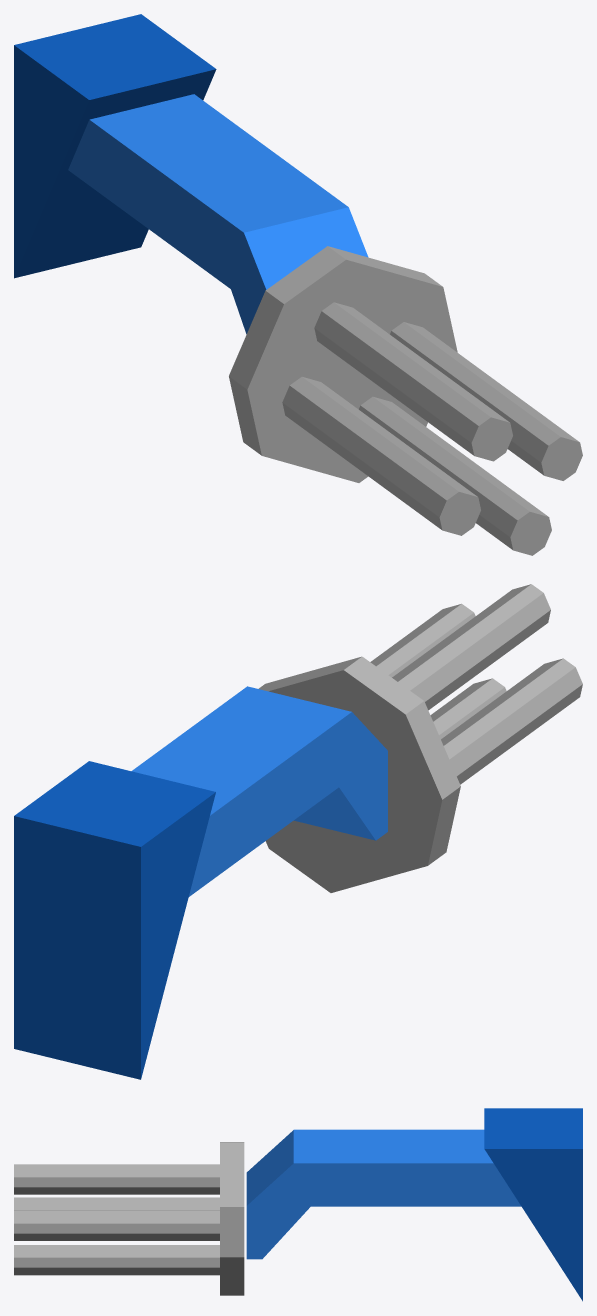
The model's file is gatling.glb.
The picture shows the model from 3 angles, top to bottom: view 1: azimuth 30°, elevation 25°; view 2: azimuth 150°, elevation 25°; view 3: azimuth 270°, elevation 25°; orthographic projection. The views are drawn at different scales.
Visible parts, largest first — view 1: Cube, spinner; view 2: Cube, spinner; view 3: Cube, spinner.
Boxes of the visible parts, bbox=[...] form: Cube: bbox=[14, 14, 368, 334]; spinner: bbox=[229, 246, 582, 555]; Cube: bbox=[14, 686, 387, 1079]; spinner: bbox=[258, 584, 582, 892]; Cube: bbox=[246, 1108, 582, 1301]; spinner: bbox=[14, 1142, 244, 1295].
Size of the model in its own units: 0.4832 by 0.553 by 1.73.
1 material, 1 textured.
